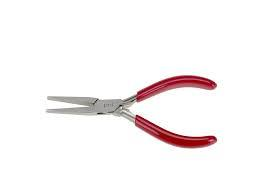pliers: (45, 72, 217, 148)
